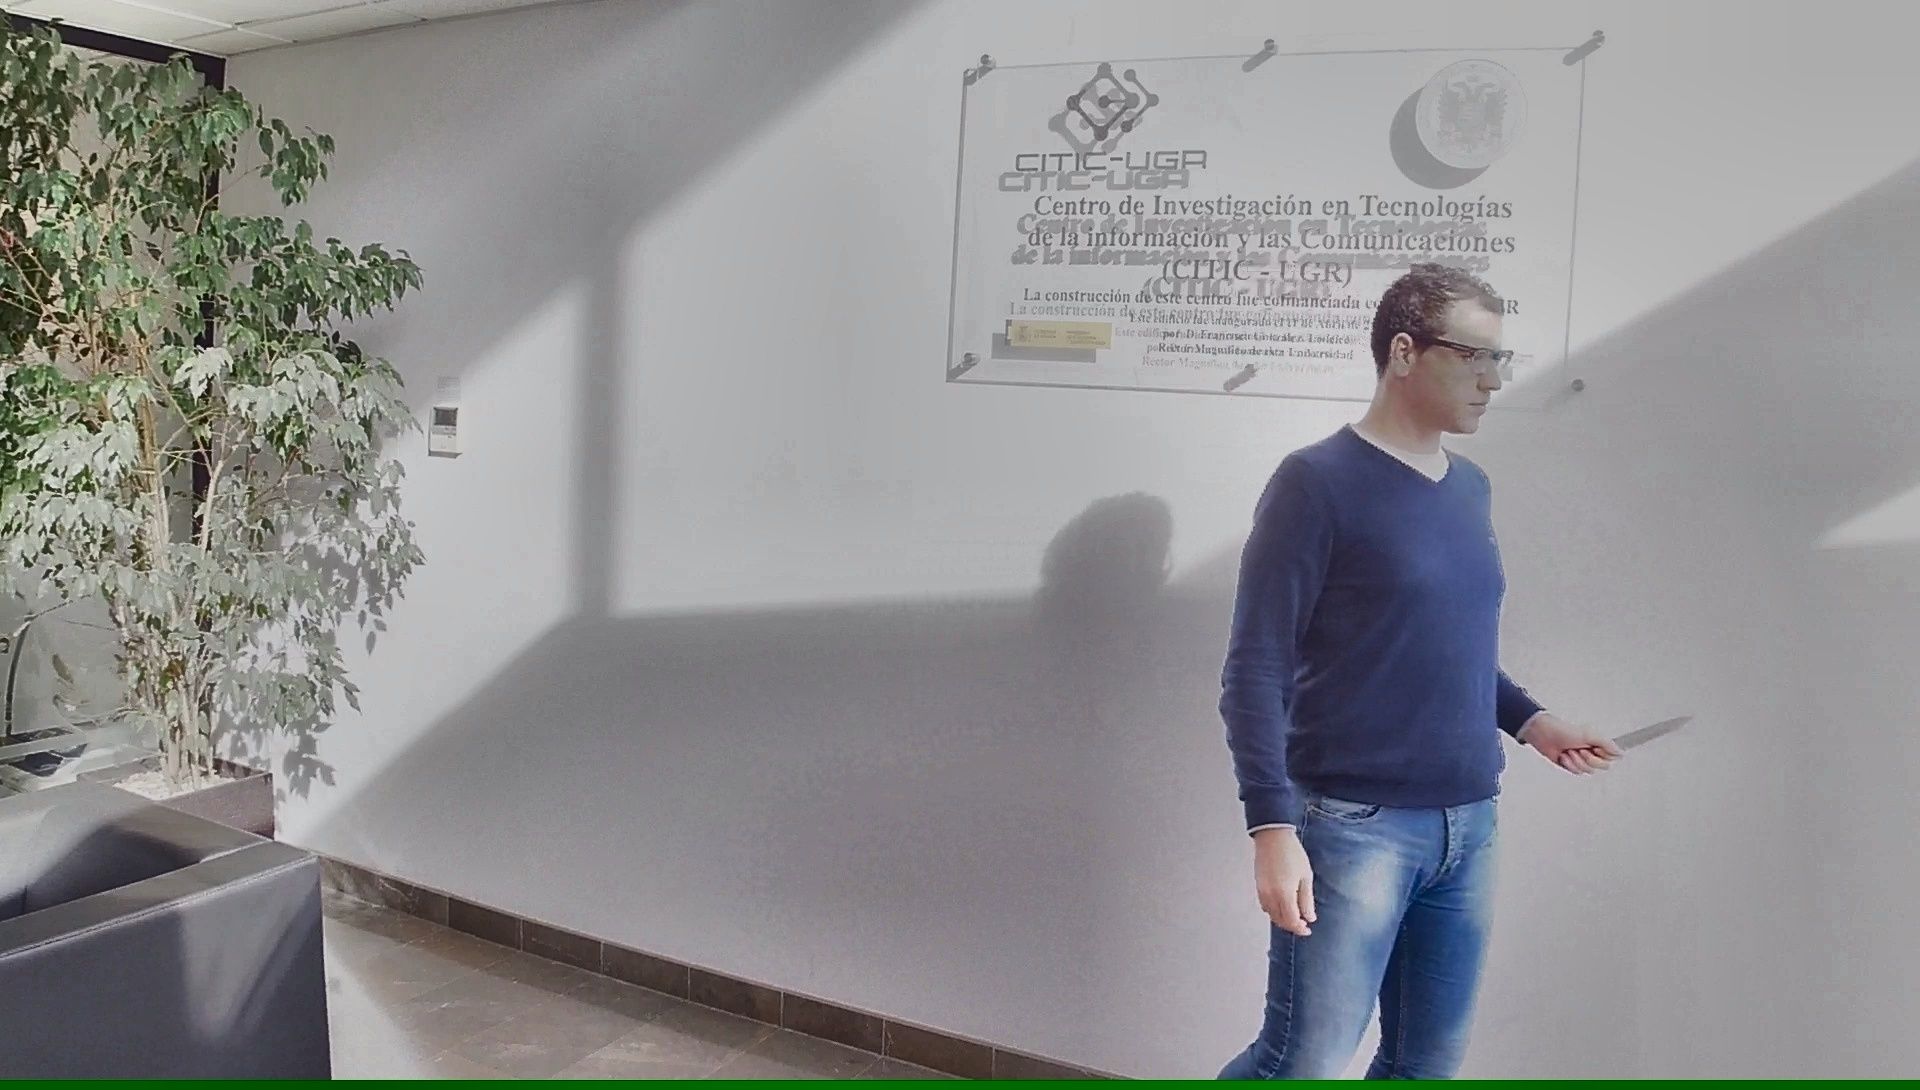knife: (1552, 704, 1702, 780)
